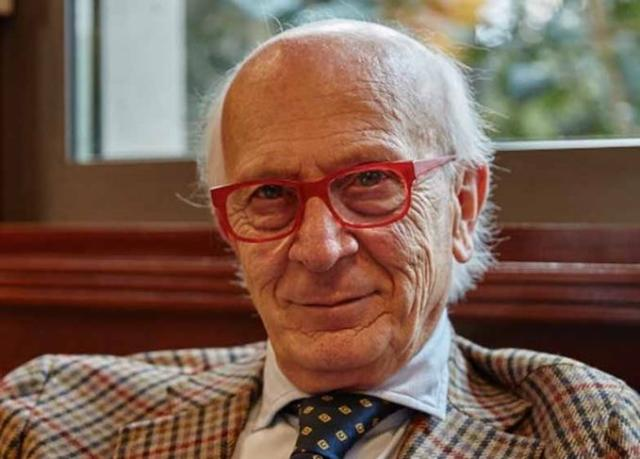chin: (312, 322, 364, 342), (367, 302, 393, 336)
crows_feet: (407, 186, 427, 224), (228, 206, 250, 235)
forehead: (336, 119, 392, 141)
gummy_smile: (360, 241, 394, 281), (270, 252, 290, 298)
masseter: (404, 261, 434, 312)
